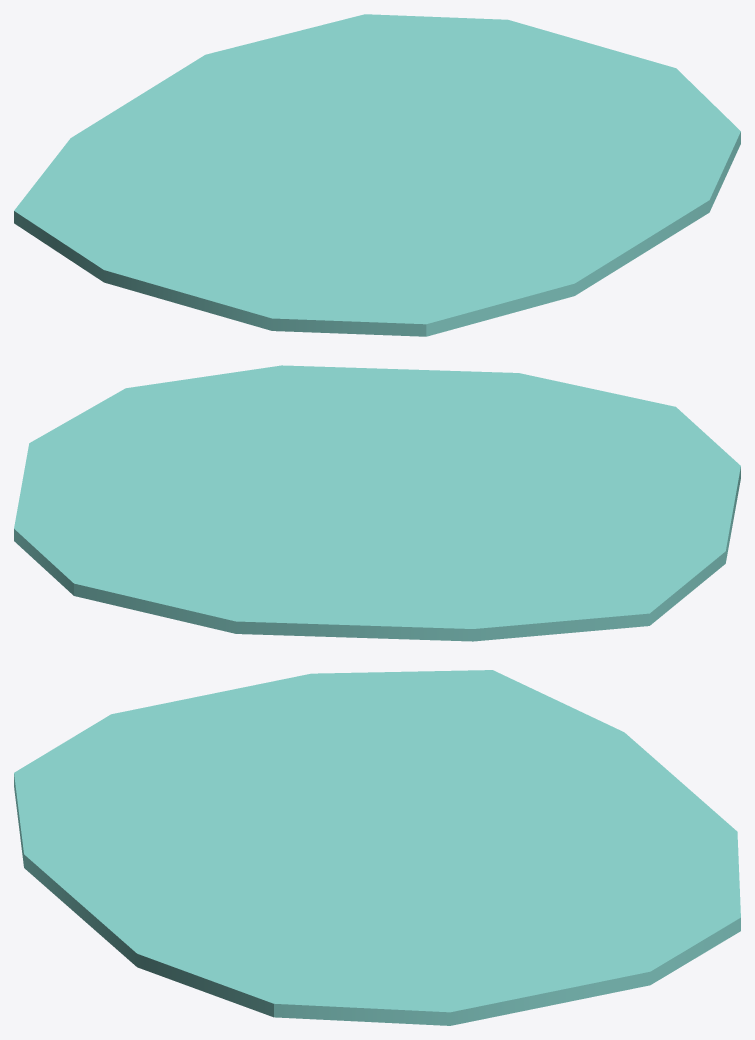
The model's file is Polar Kingdom 2.FBX.
3 renders of one model, top to bottom at view 1: azimuth 30°, elevation 25°; view 2: azimuth 150°, elevation 25°; view 3: azimuth 270°, elevation 25°, orthographic. The views are drawn at different scales.
Parts seen in each view (by area): view 1: Box001; view 2: Box001; view 3: Box001.
Boxes of the visible parts, x1,y1,x2,y2 form: Box001: (14, 14, 740, 336); Box001: (14, 365, 740, 641); Box001: (14, 670, 740, 1025).
Size of the model in its own units: 5.42 by 0.1006 by 4.86.
